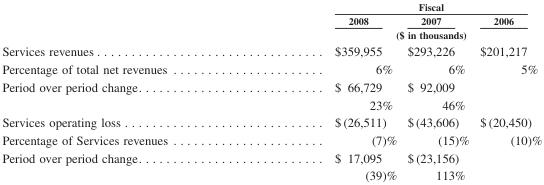table: (1, 0, 541, 181)
table column: (1, 0, 250, 181), (250, 0, 401, 181), (401, 0, 473, 181), (473, 0, 541, 181)
table column header: (1, 0, 541, 42)
table row: (1, 42, 541, 60), (1, 77, 541, 95), (1, 95, 541, 113), (1, 130, 541, 148), (1, 148, 541, 166), (1, 60, 541, 77), (1, 113, 541, 130), (1, 27, 541, 42), (1, 166, 541, 181), (1, 13, 541, 27), (1, 0, 541, 13)
table spanning cell: (250, 27, 541, 42), (250, 0, 541, 13)
